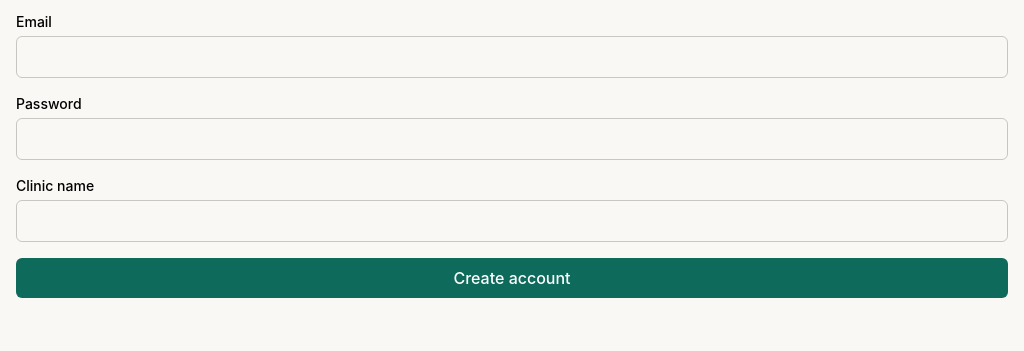
Test: RegisterStaffForm › shows the server error message on a duplicate email
Type "dev@vetlog.local" into the field labelled "Email" at (512, 57), box [16,36,1008,78]
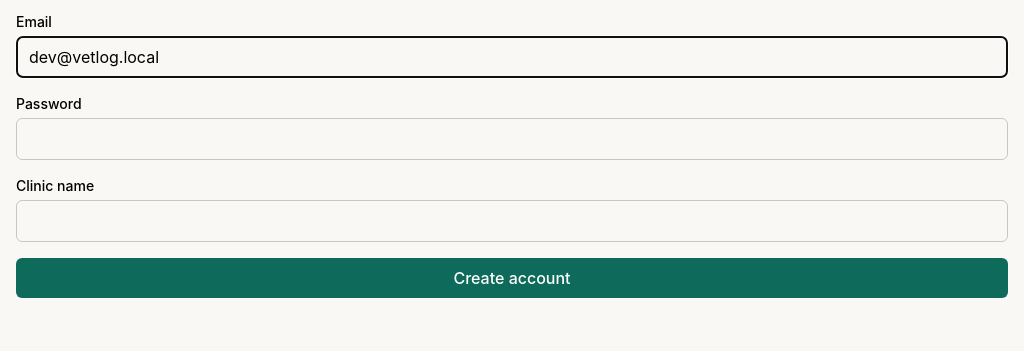
Type "long-enough-password" into the password field labelled "Password" at (512, 139), box [16,118,1008,160]
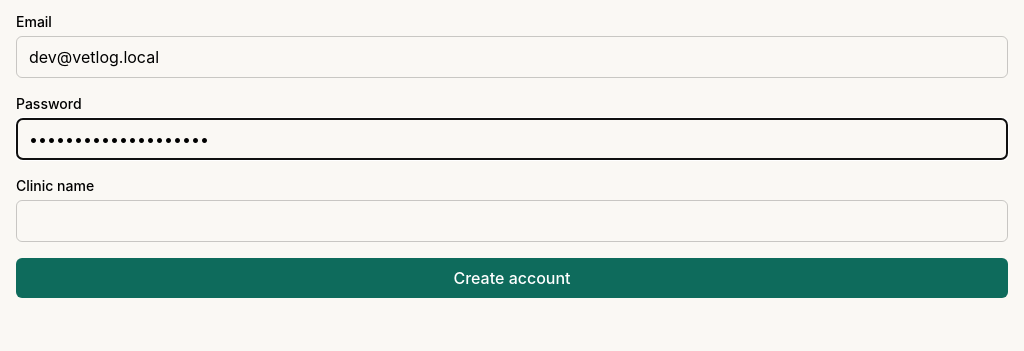
Type "VetLog Clinic" into the field labelled "Clinic name" at (512, 221), box [16,200,1008,242]
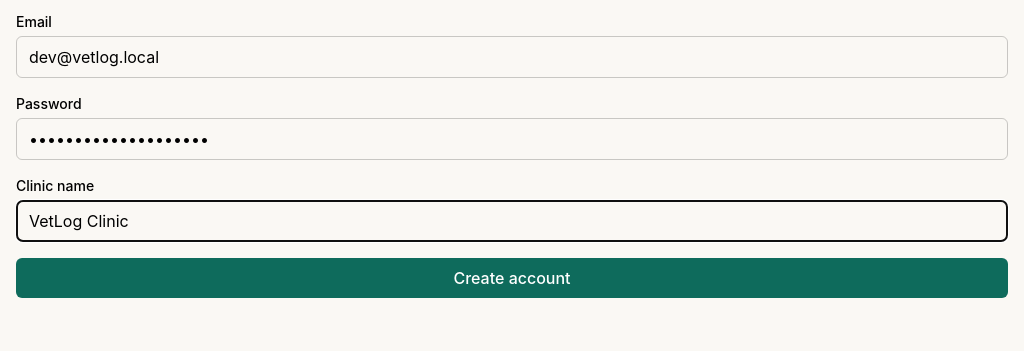
Click the button "Create account" at (512, 278), box [16,258,1008,298]
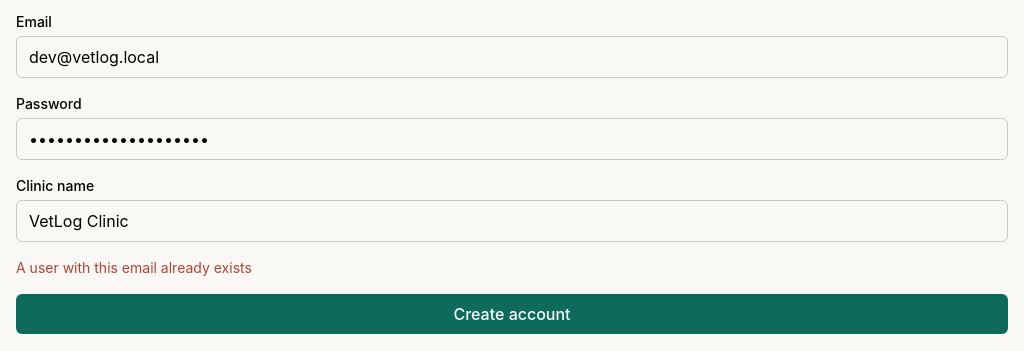
Expected: the message shows "already exists", [16,259,252,276]
